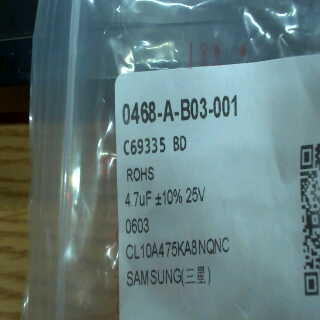4.7uF: (122, 186, 154, 211)
